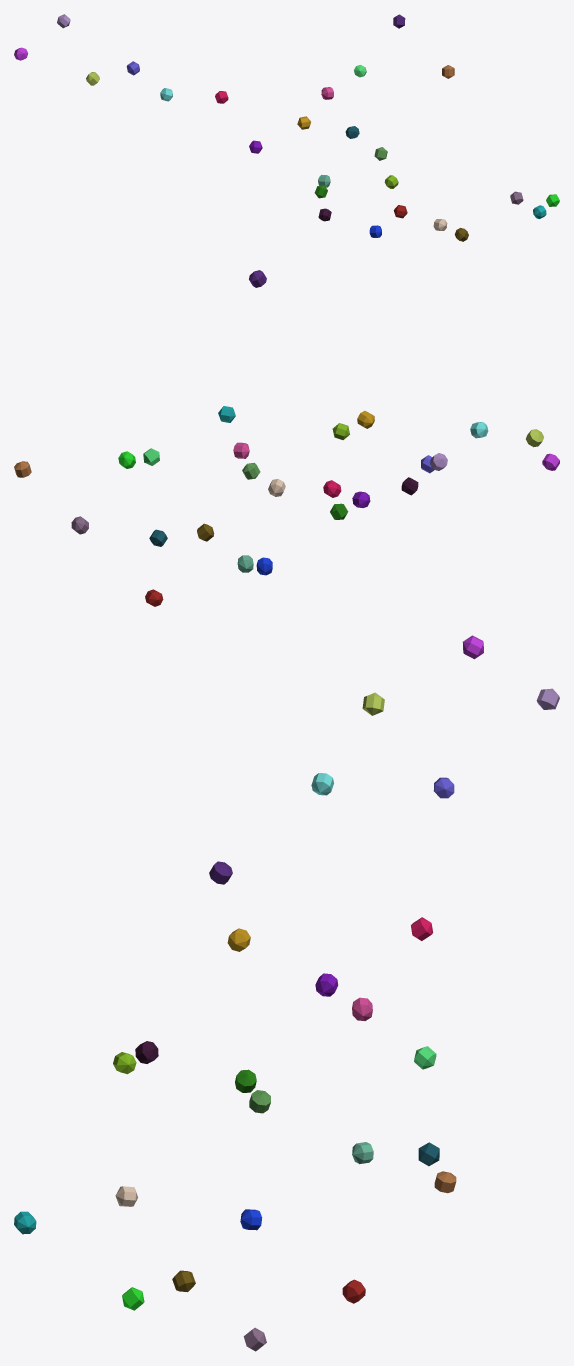
The model's file is fg-00329-bone.obj.
3 renders of one model, top to bottom at view 1: azimuth 30°, elevation 25°; view 2: azimuth 150°, elevation 25°; view 3: azimuth 270°, elevation 25°, orthographic. The views are drawn at different scales.
Bounding box in the file's own units: 0.3533 × 0.1839 × 0.2248.
